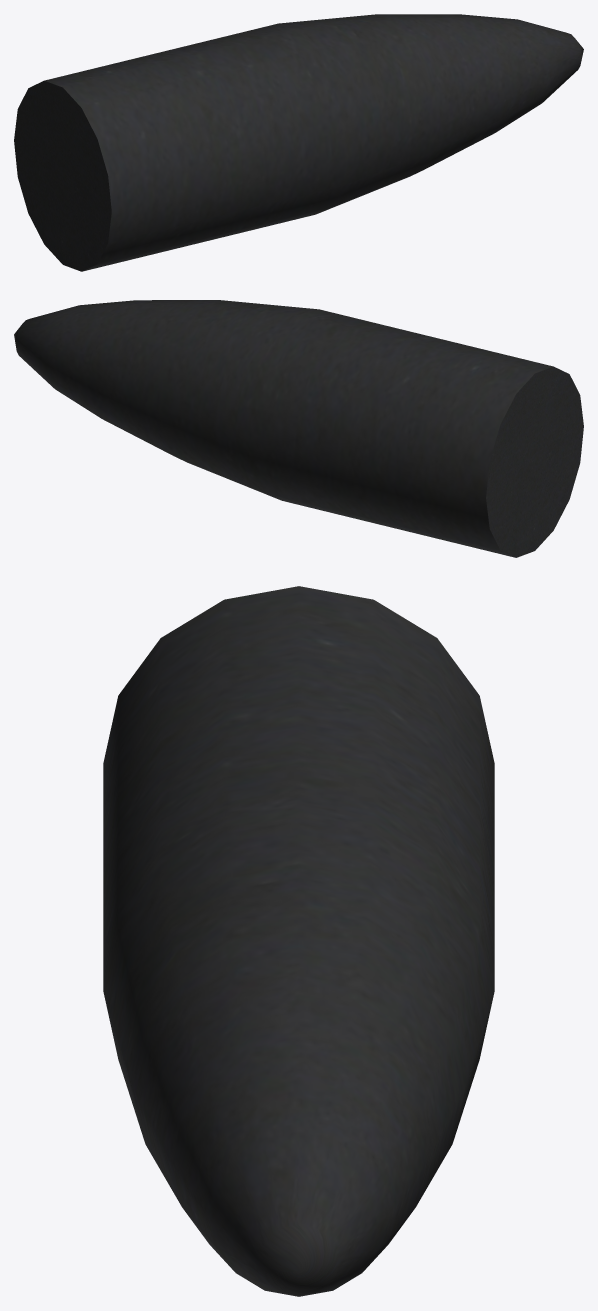
The model's file is projectile.dae.
3 renders of one model, top to bottom at view 1: azimuth 30°, elevation 25°; view 2: azimuth 150°, elevation 25°; view 3: azimuth 270°, elevation 25°, orthographic. The views are drawn at different scales.
Parts seen in each view (by area): view 1: projectile; view 2: projectile; view 3: projectile.
Part boxes in pixels (<box>): projectile: <box>14,14,583,271</box>; projectile: <box>14,300,583,557</box>; projectile: <box>103,586,494,1296</box>.
Bounding box in the file's own units: 0.0165 × 0.00537 × 0.00537.
Materials: 1 (1 with a texture image).
